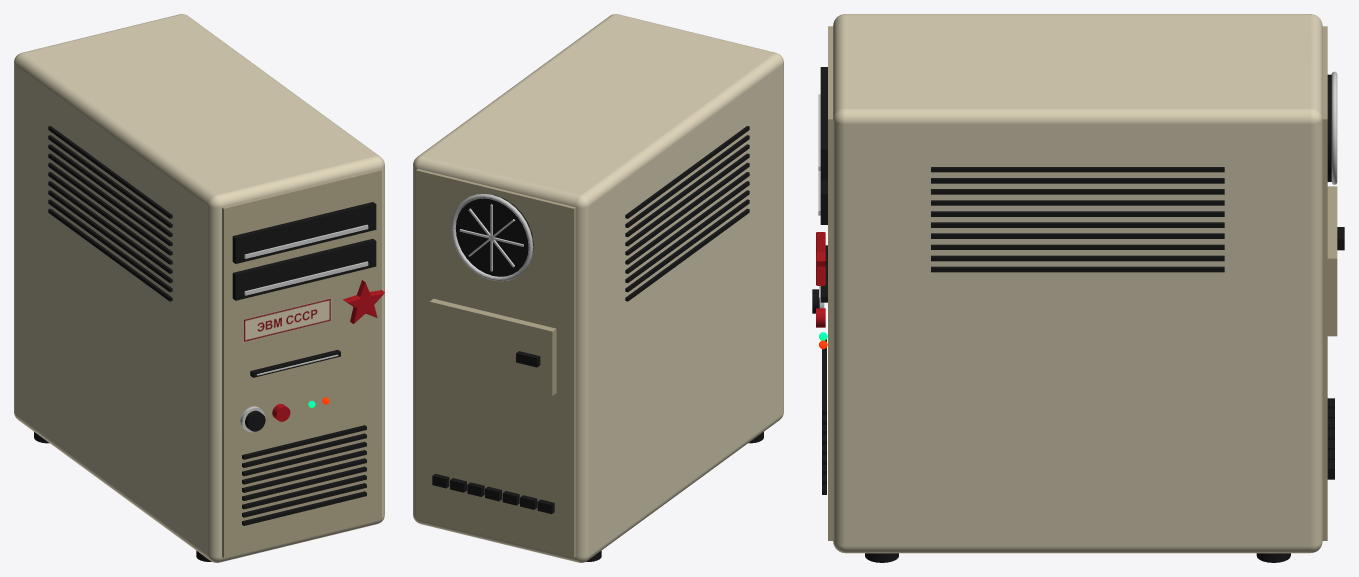
Rendered from soviet_pc_tall.glb.
3 renders of one model, left to right at view 1: azimuth 30°, elevation 25°; view 2: azimuth 150°, elevation 25°; view 3: azimuth 270°, elevation 25°, orthographic. The views are drawn at different scales.
Parts seen in each view (by area): view 1: Body, FrontPanel, DriveBay1, DriveBay0, Label, RedStar, SideVentL4, SideVentL7, SideVentL8, SideVentL0, SideVentL1, SideVentL3 (+16 smaller); view 2: Body, RearPanel, PSU_Panel, FanDisk, FanRing, SideVentL7, SideVentL1, SideVentL3, SideVentL4, SideVentL6, SideVentL8, SideVentL9 (+3 smaller); view 3: Body, RearPanel, FrontPanel, SideVentR8, SideVentR9, SideVentR0, SideVentR1, SideVentR2, SideVentR3, SideVentR4, SideVentR5, SideVentR6 (+4 smaller).
Part boxes in pixels (x1,y1,x2,y2): Body: (14, 14, 384, 562); FrontPanel: (222, 169, 381, 557); DriveBay1: (232, 238, 376, 300); DriveBay0: (232, 202, 376, 263); Label: (243, 298, 331, 342); RedStar: (343, 280, 384, 323); SideVentL4: (48, 162, 172, 255); SideVentL7: (48, 190, 172, 282); SideVentL8: (48, 199, 172, 292); SideVentL0: (48, 126, 172, 218); SideVentL1: (48, 135, 172, 227); SideVentL3: (48, 153, 172, 246); Body: (413, 14, 783, 562); RearPanel: (416, 169, 575, 557); PSU_Panel: (429, 298, 556, 395); FanDisk: (455, 195, 533, 276); FanRing: (451, 194, 533, 281); SideVentL7: (625, 190, 749, 282); SideVentL1: (625, 135, 749, 227); SideVentL3: (625, 153, 749, 246); SideVentL4: (625, 162, 749, 255); SideVentL6: (625, 181, 749, 273); SideVentL8: (625, 199, 749, 292); SideVentL9: (625, 208, 749, 301); Body: (833, 14, 1322, 553); RearPanel: (1322, 26, 1327, 540); FrontPanel: (828, 26, 832, 540); SideVentR8: (931, 255, 1224, 261); SideVentR9: (931, 266, 1224, 272); SideVentR0: (931, 167, 1224, 172); SideVentR1: (931, 178, 1224, 183); SideVentR2: (931, 189, 1224, 194); SideVentR3: (931, 200, 1224, 205); SideVentR4: (931, 211, 1224, 216); SideVentR5: (931, 222, 1224, 227); SideVentR6: (931, 233, 1224, 238).
Size of the model in its own units: 1.03 by 2.04 by 2.18.
8 materials, 1 textured.
